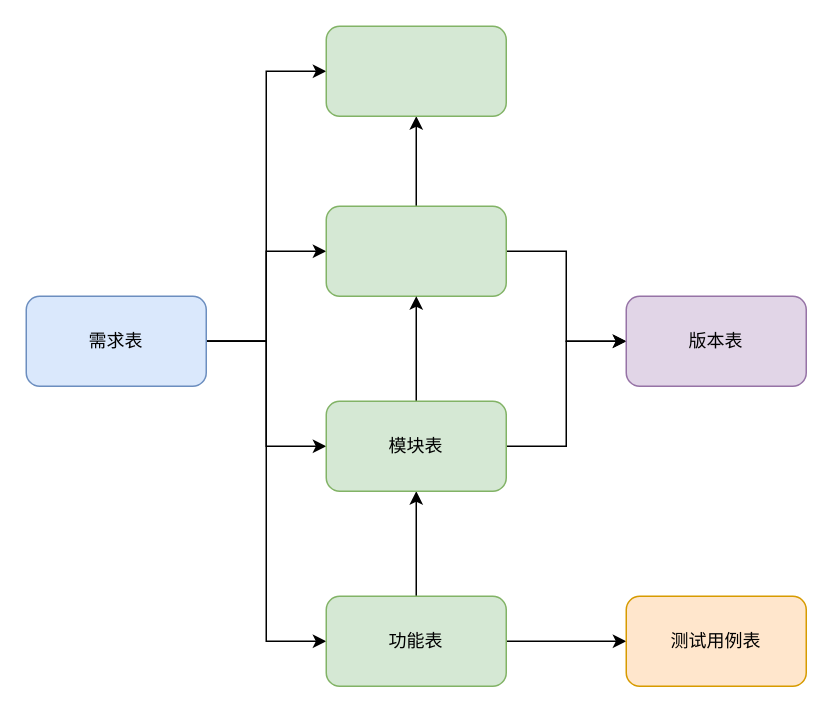
Image size: 833x713. Some labels were removed from this diagram. Each missing label, with the centre of its shape:
"产品表" goes at point (415, 70).
"项目表" goes at point (415, 250).
